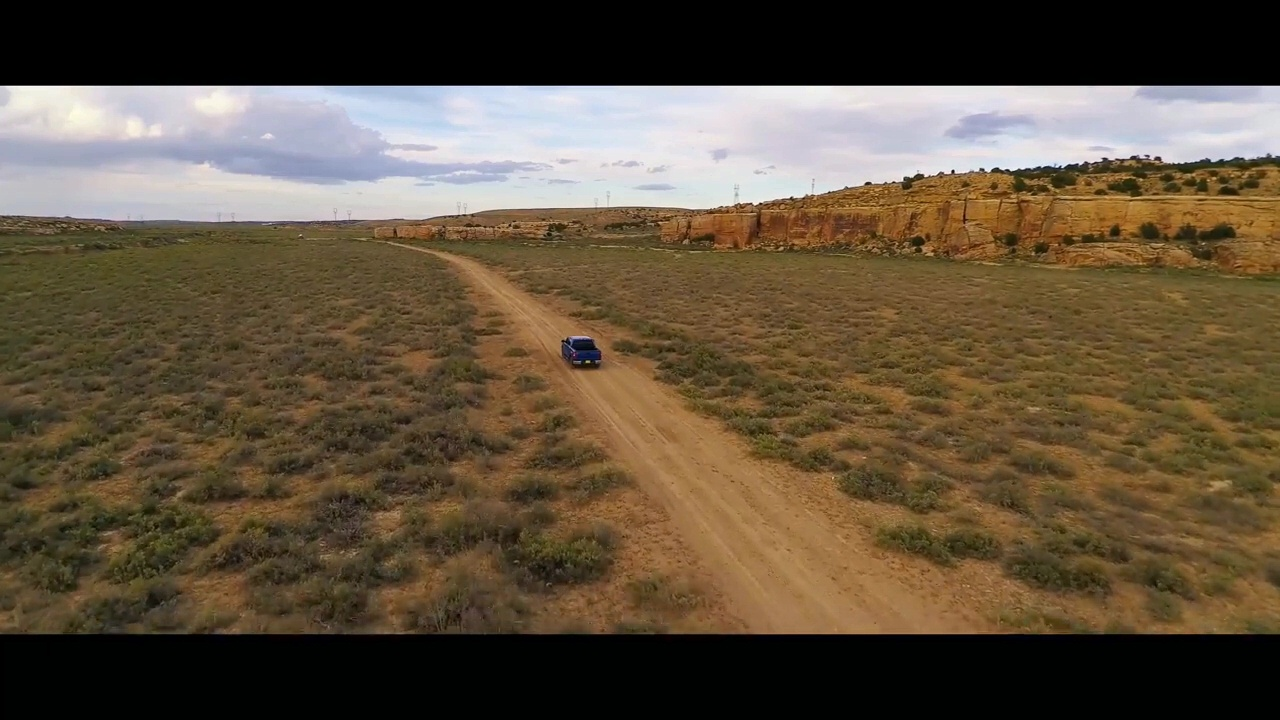kamyonet: (560, 336, 602, 366)
